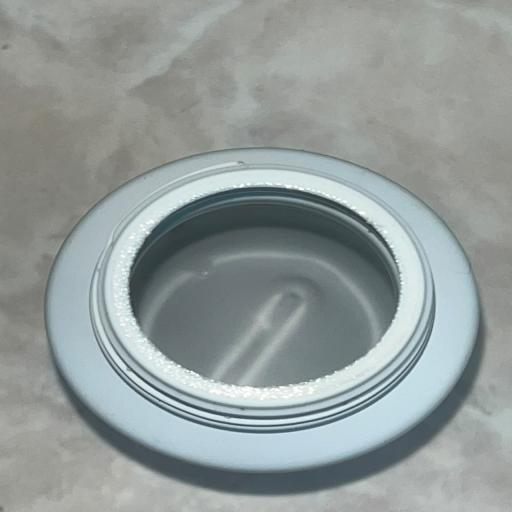HDPE: (37, 121, 492, 500)
